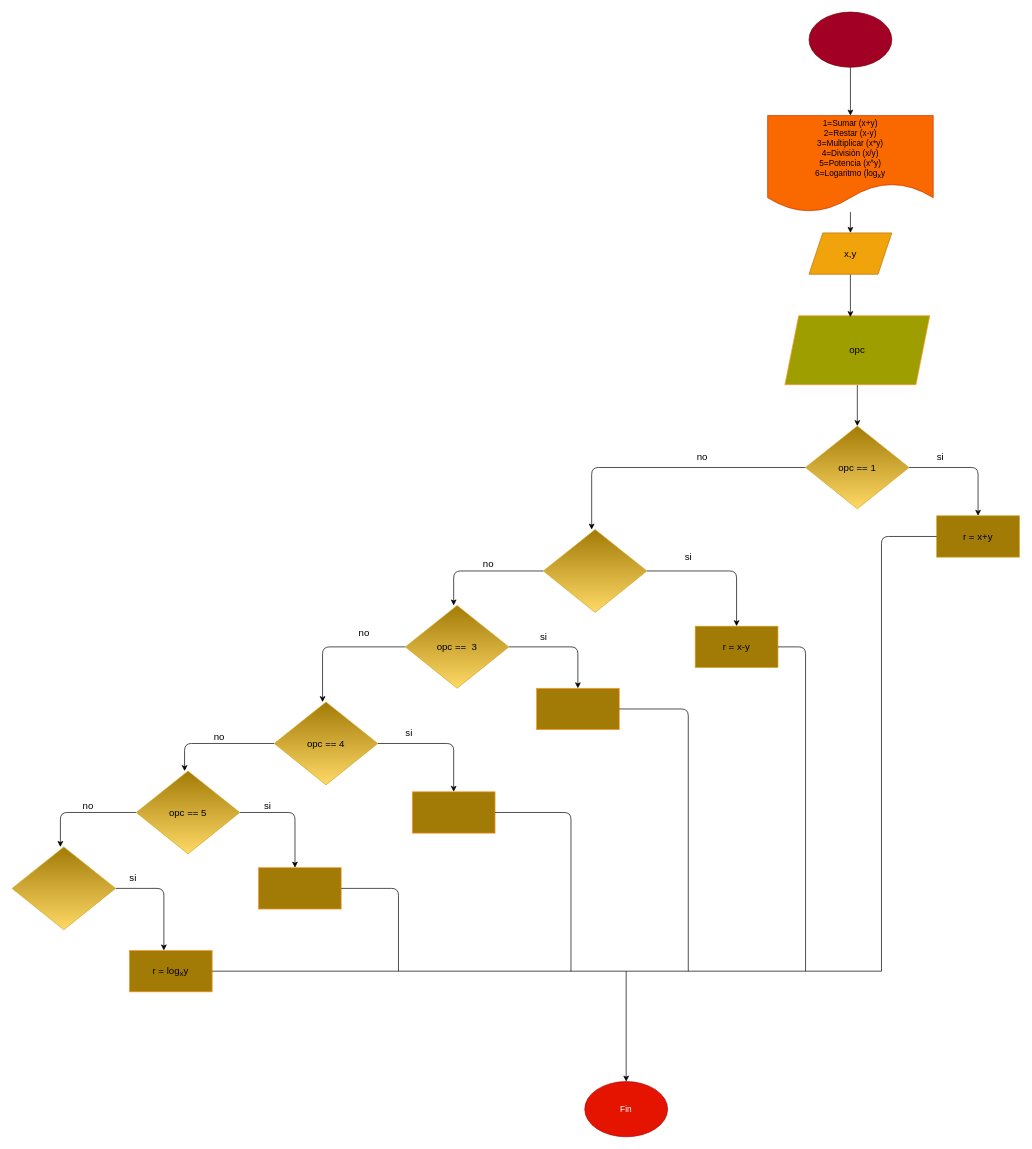
The diagram is 1032 pixels wide and 1149 high, and some of its shapes have lost their labels. Each missing label, with the centre of its shape:
"opc = 6" goes at point 63,888.
"opc == 2" goes at point 595,570.
"r = x*y" goes at point 577,709.
"r = x/y" goes at point 453,812.
"r = x^y" goes at point 299,888.
"Start" goes at point 850,39.
